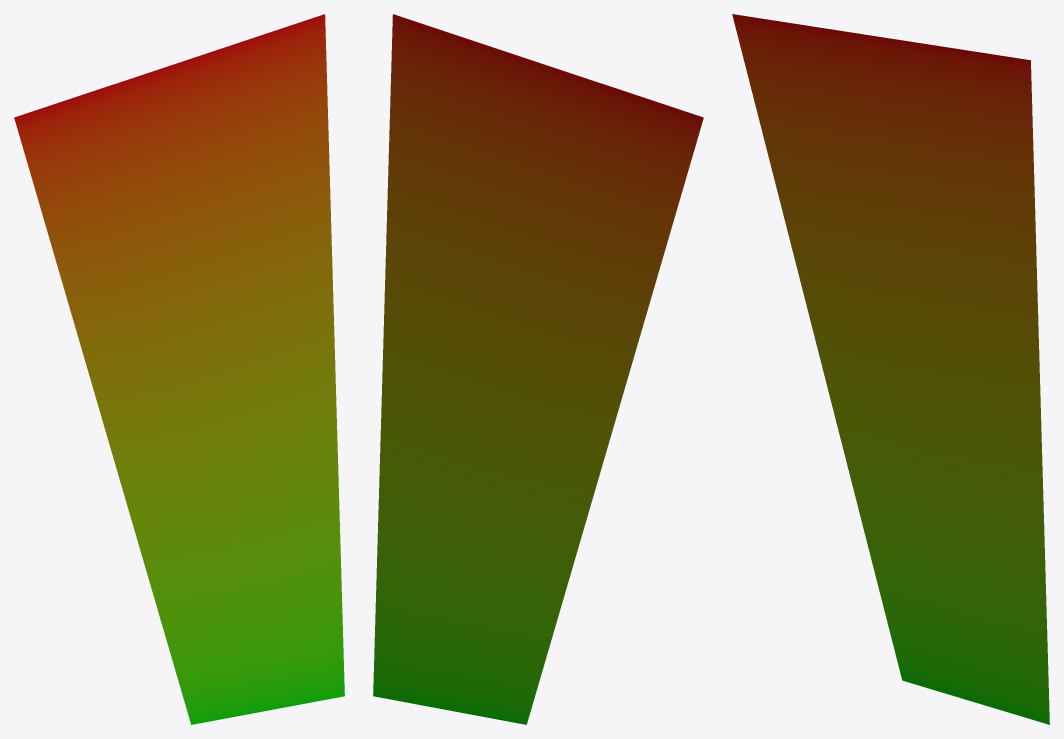
File: Sea Wheatgrass_LOD3_Var10_ui2oagjia.fbx
3 renders of one model, left to right at view 1: azimuth 30°, elevation 25°; view 2: azimuth 150°, elevation 25°; view 3: azimuth 330°, elevation 25°, orthographic. The views are drawn at different scales.
Visible parts, largest first — view 1: _3jud_Var10_LOD3; view 2: _3jud_Var10_LOD3; view 3: _3jud_Var10_LOD3.
Boxes of the visible parts, <box> form: _3jud_Var10_LOD3: <box>14,14,344,724</box>; _3jud_Var10_LOD3: <box>373,14,703,724</box>; _3jud_Var10_LOD3: <box>732,14,1049,724</box>.
Size of the model in its own units: 20.95 by 41.59 by 6.73e-06.
